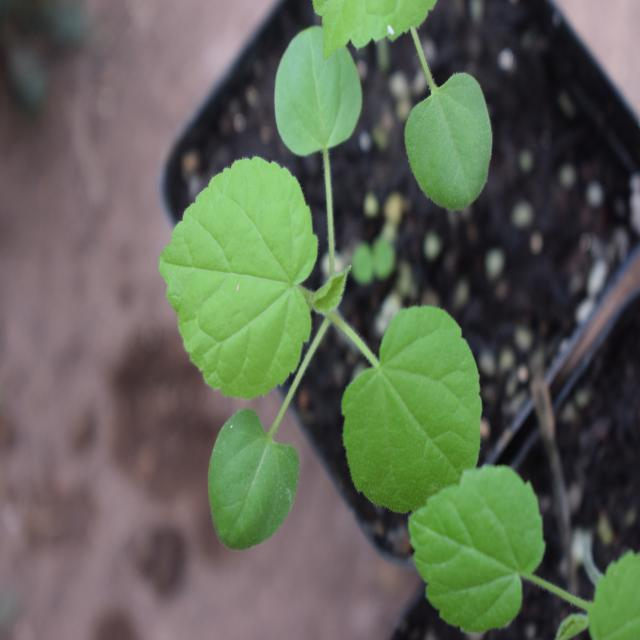abutilon theophrasti: (168, 49, 506, 570)
